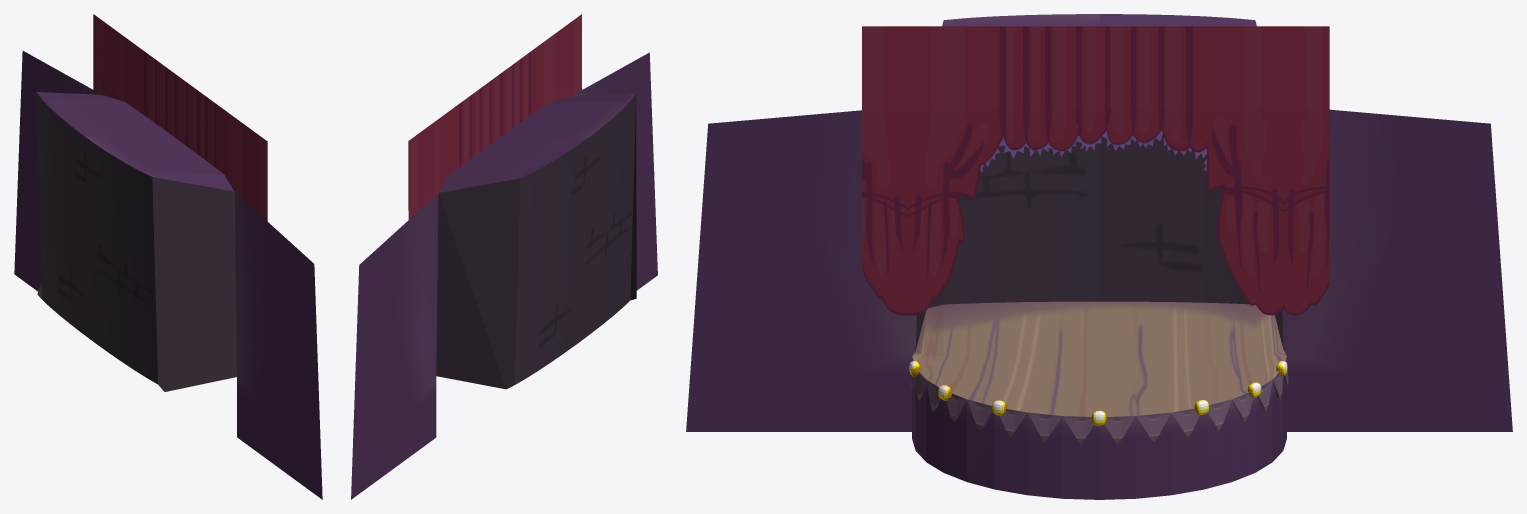
The model's file is FNFStage.fbx.
The picture shows the model from 3 angles, left to right: view 1: azimuth 30°, elevation 25°; view 2: azimuth 150°, elevation 25°; view 3: azimuth 270°, elevation 25°; orthographic projection. The views are drawn at different scales.
Visible parts, largest first — view 1: Stage, Stage.001; view 2: Stage, Stage.001; view 3: Stage, Stage.001.
Part boxes in pixels (box(x1,y1,x2,y2)): Stage: box(14, 51, 322, 499); Stage.001: box(93, 14, 267, 221); Stage: box(351, 52, 657, 499); Stage.001: box(408, 14, 582, 219); Stage: box(686, 14, 1512, 499); Stage.001: box(862, 26, 1329, 315).
Bounding box in the file's own units: 644 × 990 × 1798.
Materials: 3 (3 with a texture image).
